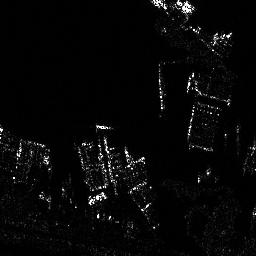ship: (156, 61, 167, 109)
